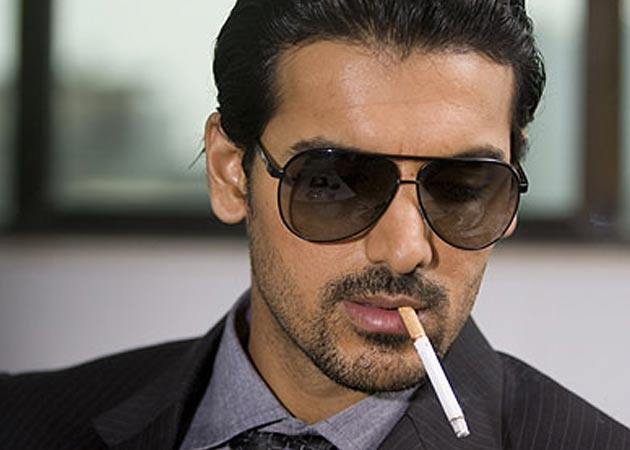cigarette: (396, 303, 472, 436)
